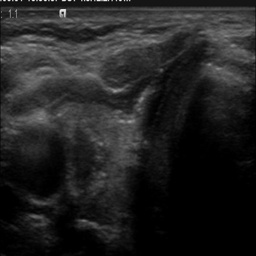mass: (67, 122, 103, 194)
